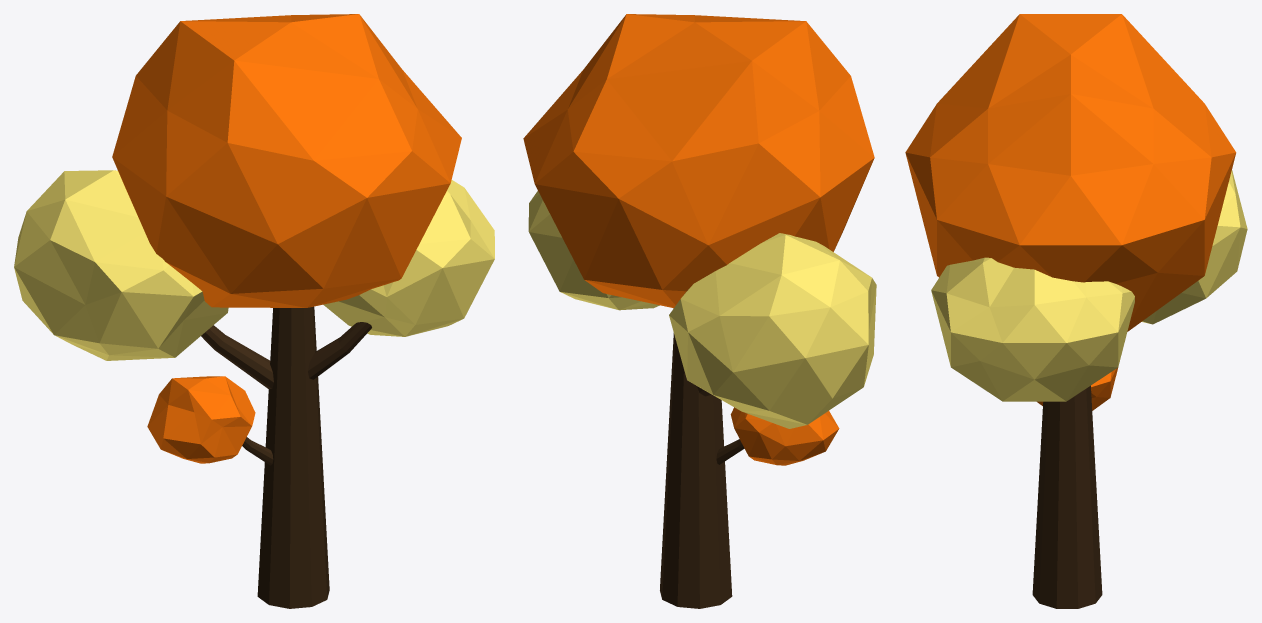
File: low_poly_tree.glb
3 renders of one model, left to right at view 1: azimuth 30°, elevation 25°; view 2: azimuth 150°, elevation 25°; view 3: azimuth 270°, elevation 25°, orthographic. The views are drawn at different scales.
Visible parts, largest first — view 1: leaves, branches; view 2: leaves, branches; view 3: leaves, branches.
Part boxes in pixels (box(x1,y1,x2,y2)): leaves: box(14, 14, 494, 463); branches: box(201, 306, 371, 608); leaves: box(523, 14, 876, 465); branches: box(660, 333, 744, 608); leaves: box(905, 14, 1247, 410); branches: box(1032, 385, 1102, 608).
Bounding box in the file's own units: 190 × 265 × 151.
